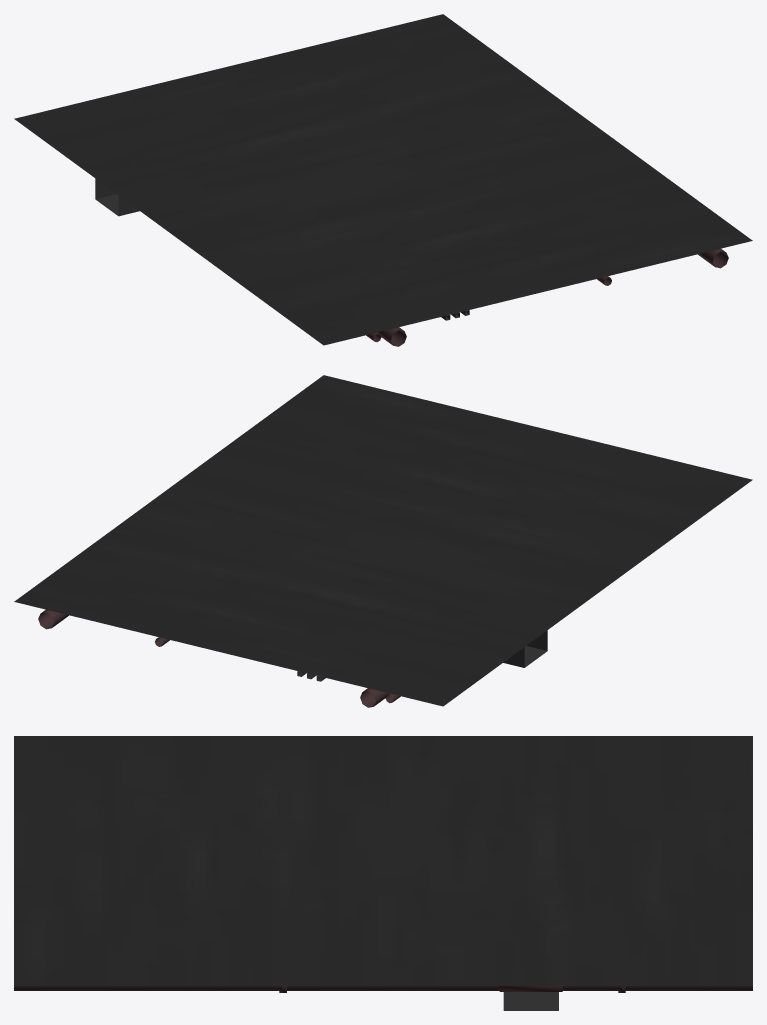
Rendered from SW_ENV_RailTunnelCeiling_Single_05m_FF.fbx.
3 renders of one model, top to bottom at view 1: azimuth 30°, elevation 25°; view 2: azimuth 150°, elevation 25°; view 3: azimuth 270°, elevation 25°, orthographic. The views are drawn at different scales.
Parts seen in each view (by area): view 1: SW_ENV_RailTunnelCeiling_Single_05m_FF; view 2: SW_ENV_RailTunnelCeiling_Single_05m_FF; view 3: SW_ENV_RailTunnelCeiling_Single_05m_FF.
Part boxes in pixels (x1,y1,x2,y2): SW_ENV_RailTunnelCeiling_Single_05m_FF: (14,14,752,346); SW_ENV_RailTunnelCeiling_Single_05m_FF: (14,375,752,707); SW_ENV_RailTunnelCeiling_Single_05m_FF: (14,736,752,1010).
Size of the model in its own units: 4 by 0.19 by 5.
